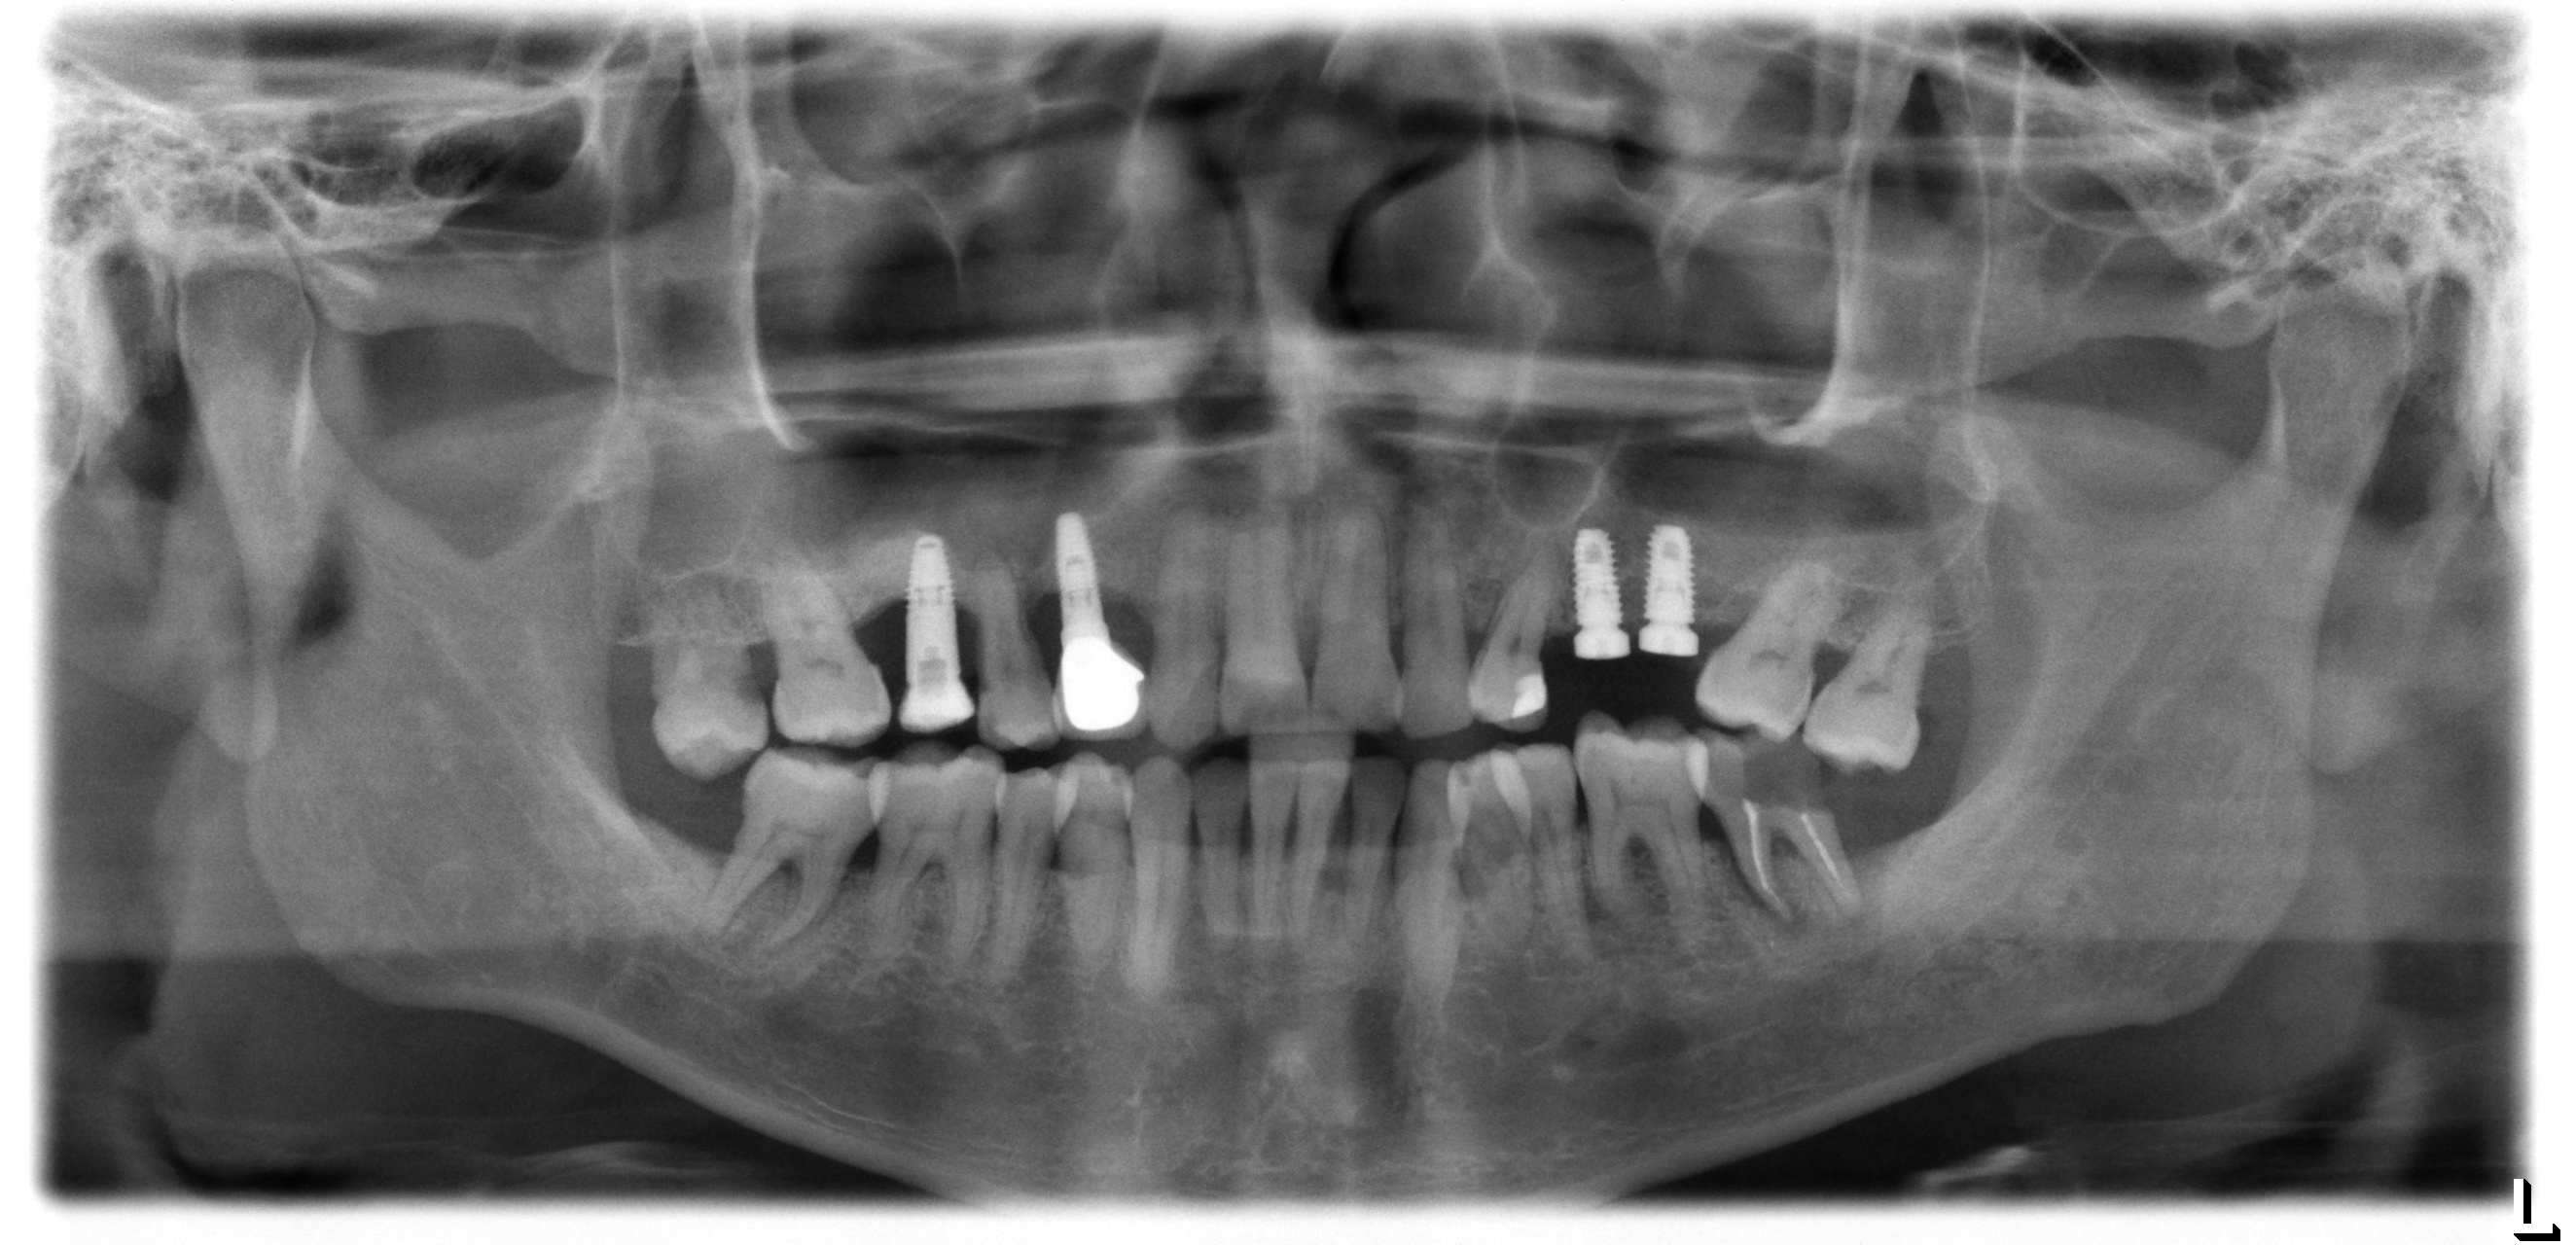Decay: (1715, 733, 1827, 828), (726, 647, 769, 705)
